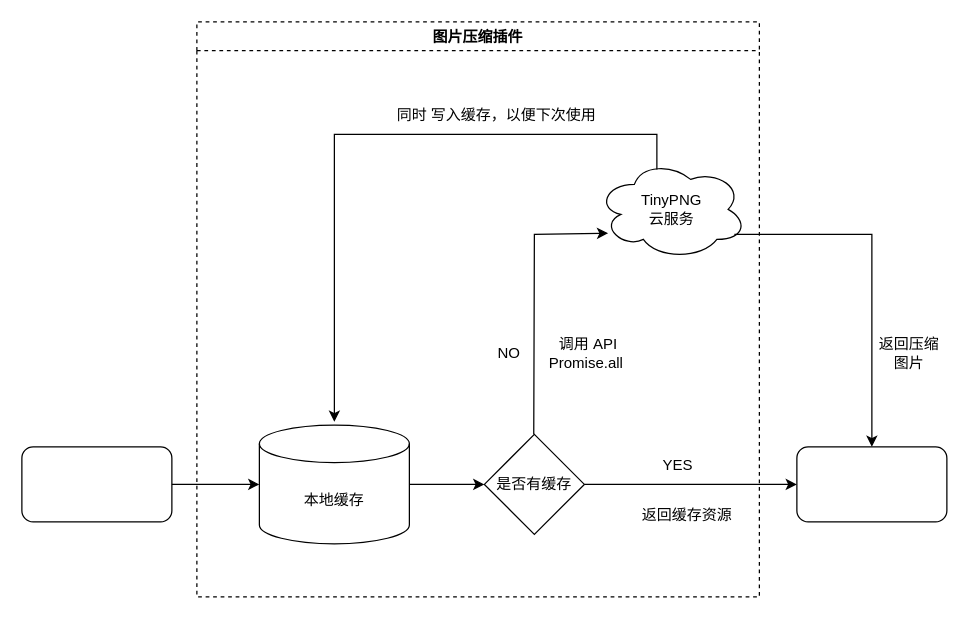
This 969x619 diagram has some shape labels left out. The shapes that lost their labels are listed below. From the top down, each one's centre as x and y in pixels, then its label:
At (x=96, y=484): "图片资源".
At (x=871, y=484): "压缩后的图片资源".
